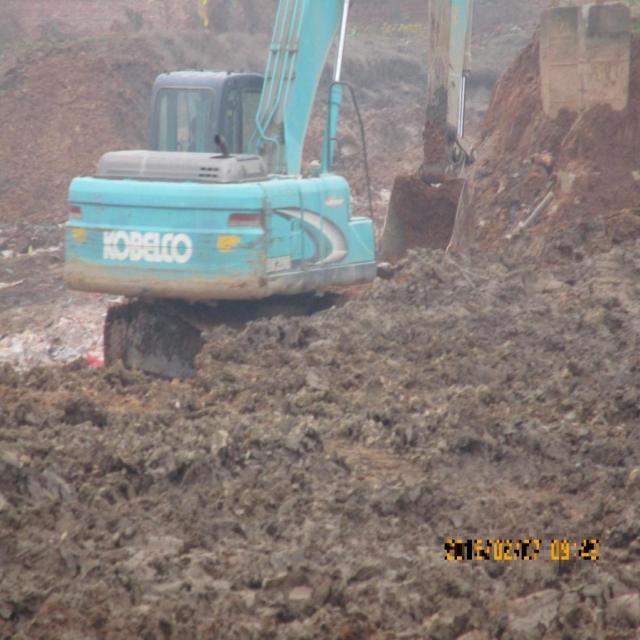excavator: (57, 0, 478, 400)
